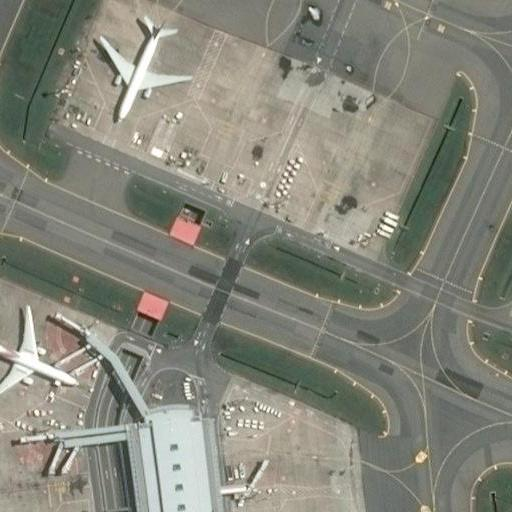Aircraft: (89, 9, 193, 121), (0, 300, 80, 402)
